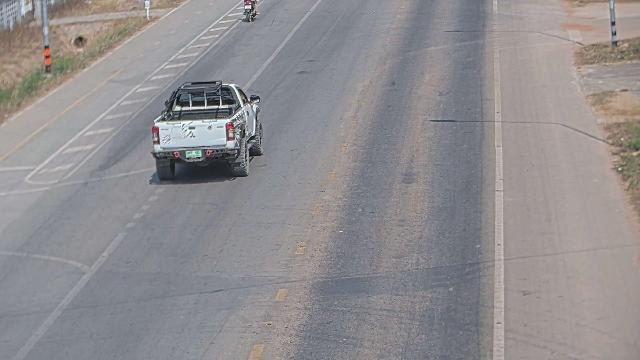pickup-truck: (150, 79, 264, 181)
